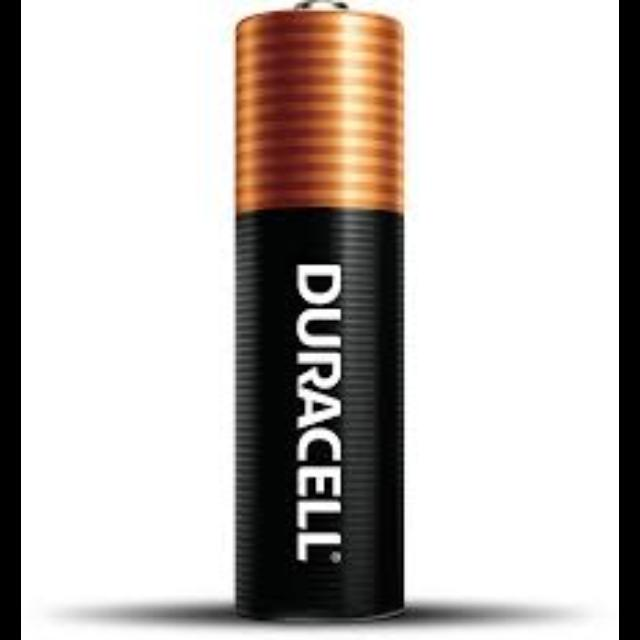Battery: (236, 8, 404, 621)
